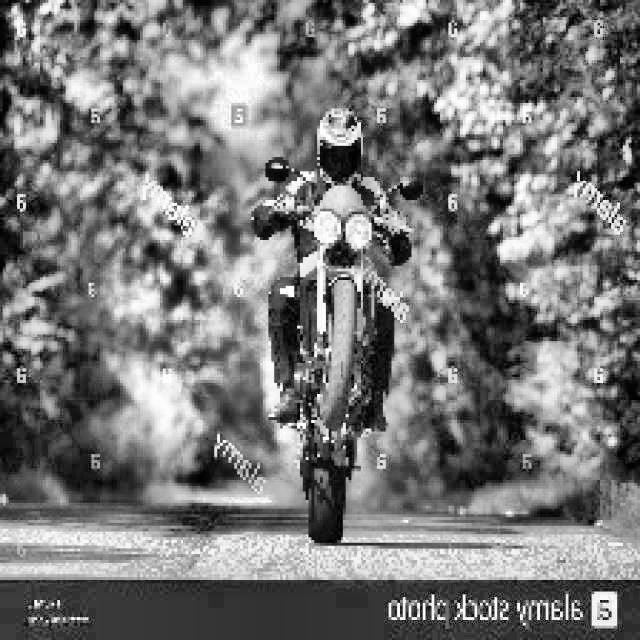motorcycle: (245, 153, 429, 553)
